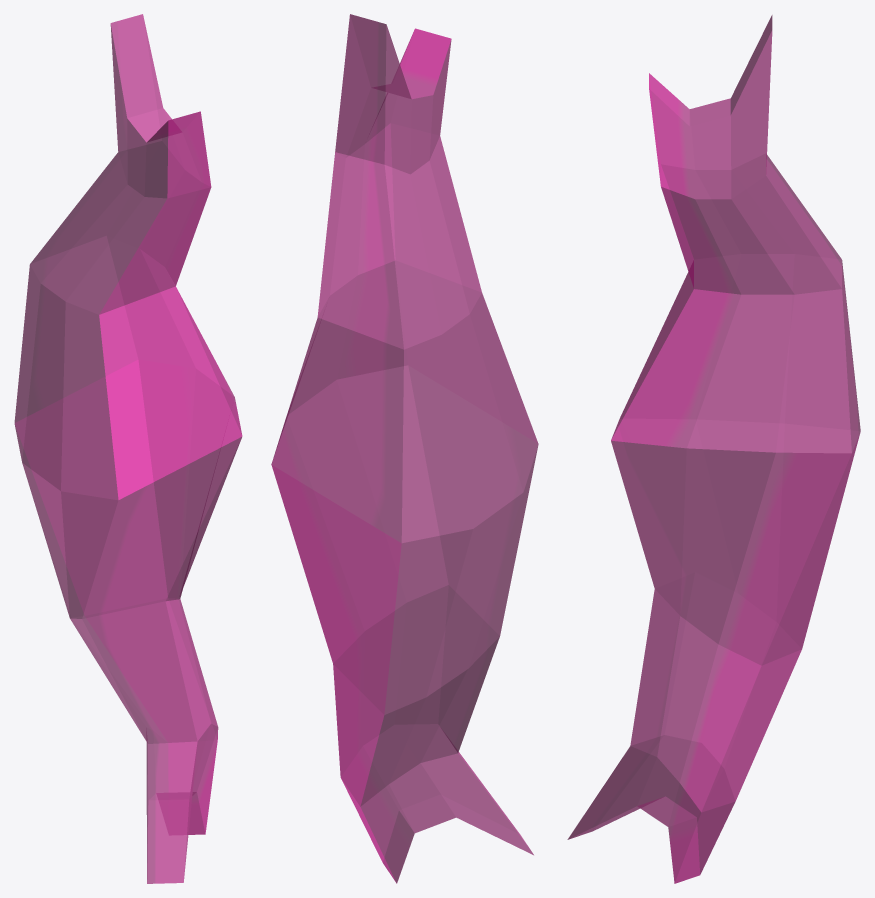
File: whisperB.gltf
The picture shows the model from 3 angles, left to right: view 1: azimuth 30°, elevation 25°; view 2: azimuth 150°, elevation 25°; view 3: azimuth 270°, elevation 25°; orthographic projection. The views are drawn at different scales.
Visible parts, largest first — view 1: whisper; view 2: whisper; view 3: whisper.
Boxes of the visible parts, x1,y1,x2,y2 form: whisper: (14, 14, 242, 883); whisper: (271, 14, 538, 883); whisper: (567, 15, 860, 883).
Size of what is drawn, in the model's own units: 0.0676 by 0.2975 by 0.0932.
Materials: 1 (1 with a texture image).
